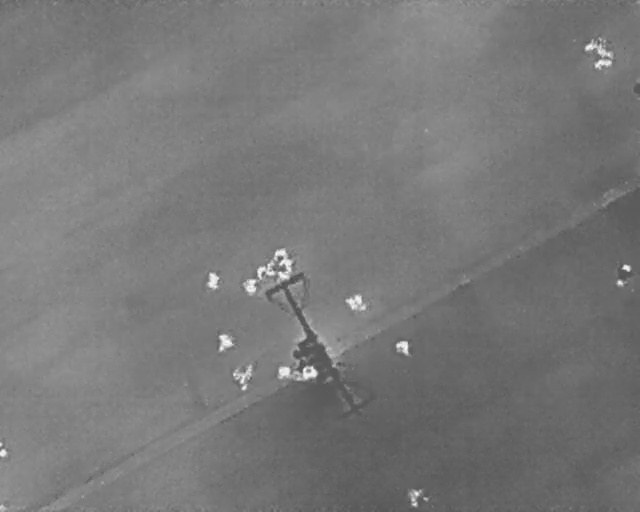Person: (613, 259, 635, 289), (231, 363, 253, 393), (345, 294, 368, 312), (253, 262, 275, 280), (218, 333, 234, 354), (205, 270, 220, 291), (408, 489, 425, 507), (395, 339, 410, 355), (241, 279, 257, 294), (596, 44, 613, 57), (592, 60, 614, 70), (303, 366, 317, 381), (277, 364, 290, 379), (581, 39, 597, 51), (273, 248, 287, 261), (280, 261, 294, 272), (278, 272, 292, 283)
